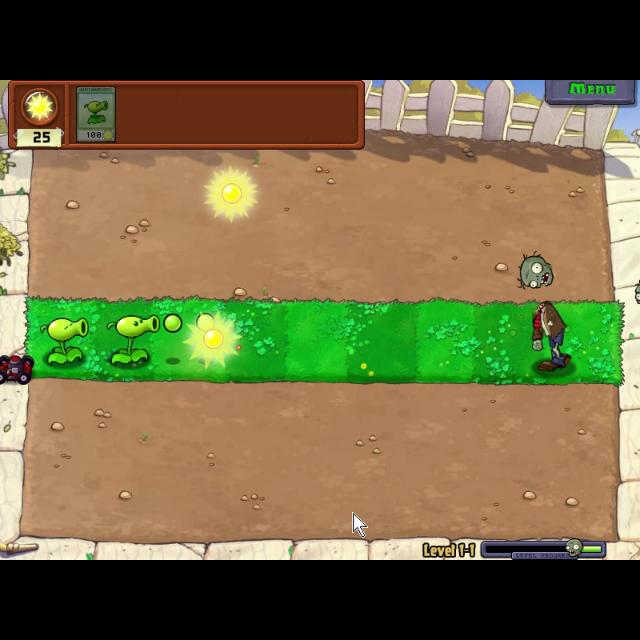Garden: (24, 295, 626, 387)
Menu Button: (544, 80, 638, 106)
Mower: (1, 350, 34, 388)
Peashooter: (74, 82, 118, 144)
Peashooter Seed: (103, 310, 159, 372), (36, 315, 92, 367)
Seed Panel: (5, 80, 371, 152)
Sun: (180, 308, 246, 372), (205, 168, 265, 222)
Zombie: (520, 296, 574, 376)
